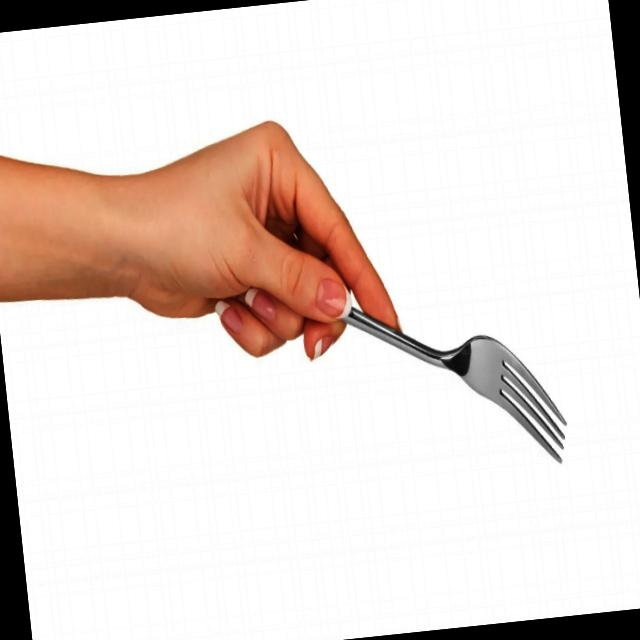fork: (282, 245, 570, 491)
